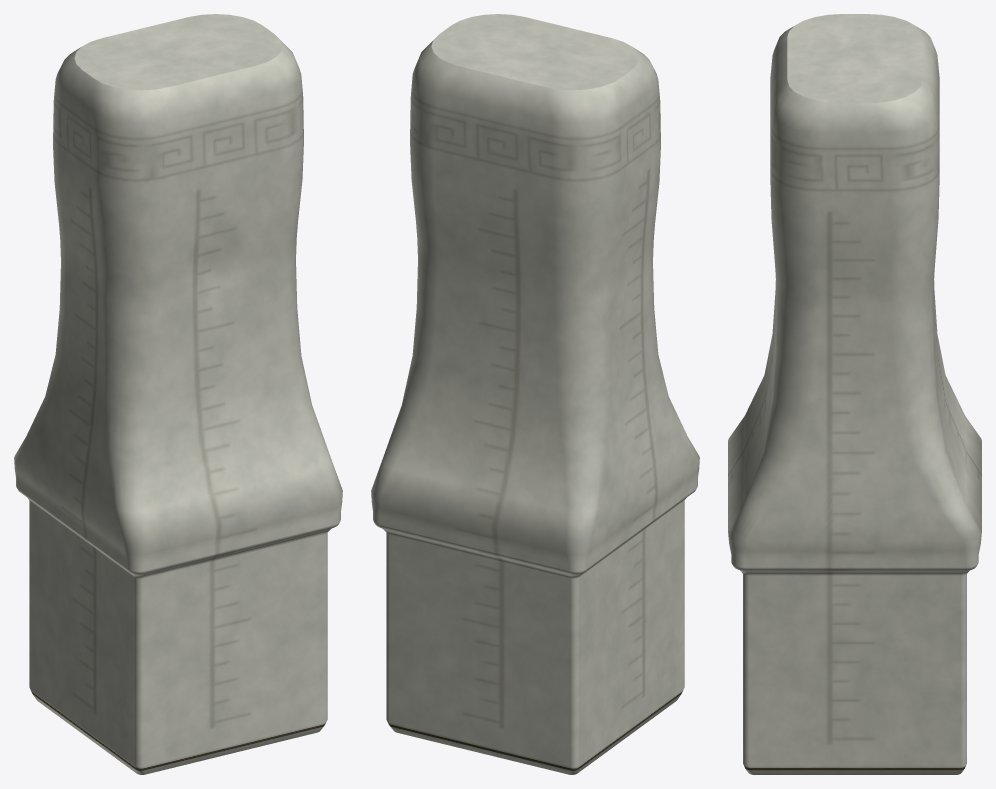
File: MasterTenon_LODs.fbx
3 views of the same model, side by side, from view 1: azimuth 30°, elevation 25°; view 2: azimuth 150°, elevation 25°; view 3: azimuth 270°, elevation 25° (orthographic).
Parts seen in each view (by area): view 1: MasterTenon_LOD0; view 2: MasterTenon_LOD0; view 3: MasterTenon_LOD0.
Part boxes in pixels (x1,y1,x2,y2): MasterTenon_LOD0: (14, 14, 342, 774); MasterTenon_LOD0: (371, 14, 699, 774); MasterTenon_LOD0: (728, 14, 981, 774).
Size of what is drawn, in the model's own units: 12 by 35 by 12.
Materials: 1 (1 with a texture image).
